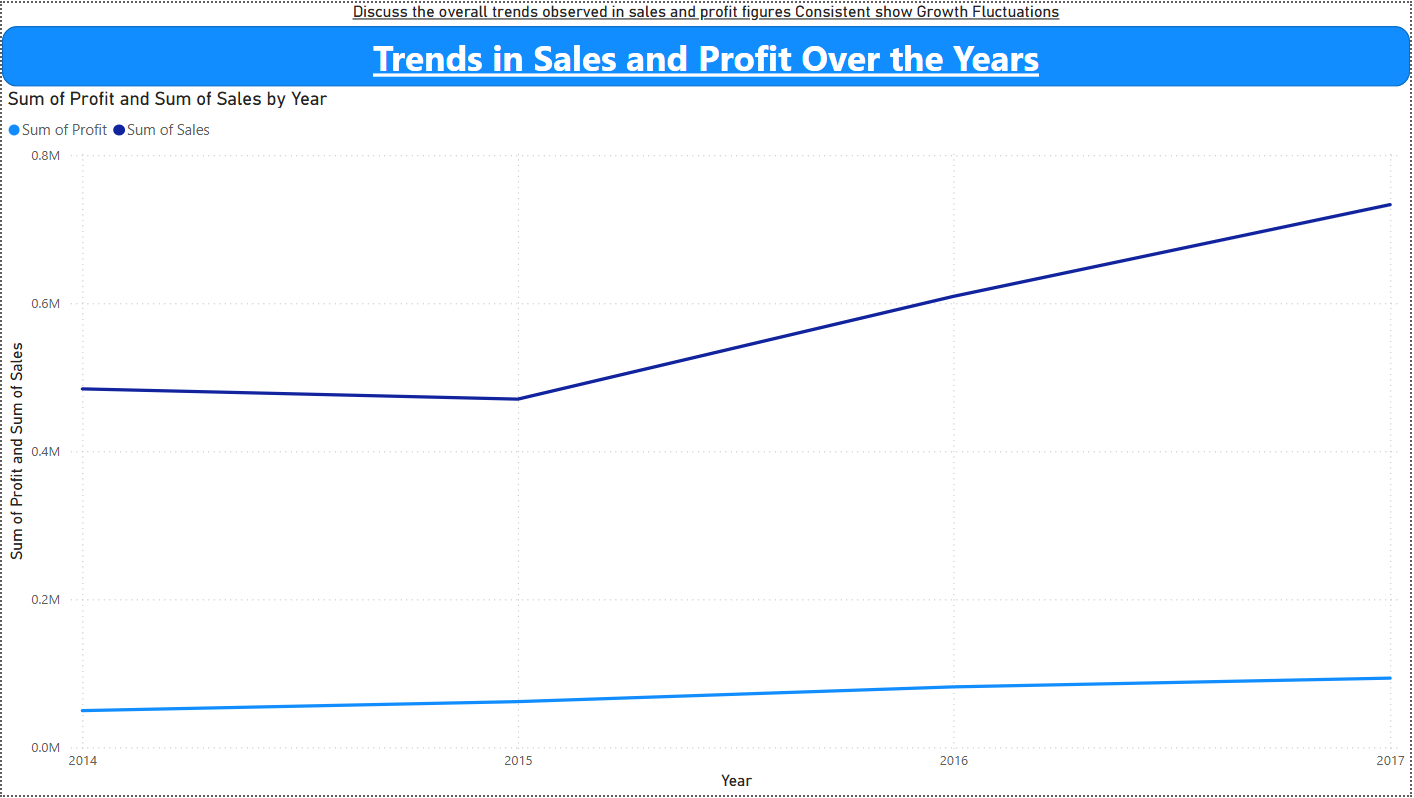

What the dashboard file says about the page in this screenshot:
{"tool":"powerbi","page":{"name":"Year by Profits/sales","canvas":[1280,720],"ordinal":3},"visuals":[{"type":"shape","title":"Discuss the overall trends observed in sales and profit figures Consistent show Growth Fluctuations","box":[0,0,1280,76.4],"z":0},{"type":"lineChart","fields":{"Y":["Sum(Orders.Profit)","Sum(Orders.Sales)"],"Category":["Orders.Order Date.Variation.Date Hierarchy.Year"]},"box":[0,76.4,1280,643.6],"z":1000}]}

Visuals, with their boxes in screenshot pixels (x1, y1, x2, y2), scaled from the page's 1280x720 canvas onto the 1414x798 screenshot:
"Discuss the overall trends observed in sales and profit figures Consistent show Growth Fluctuations" shape: (0, 0, 1413, 85)
lineChart - Sum(Orders.Profit) x Sum(Orders.Sales): (0, 85, 1413, 797)
